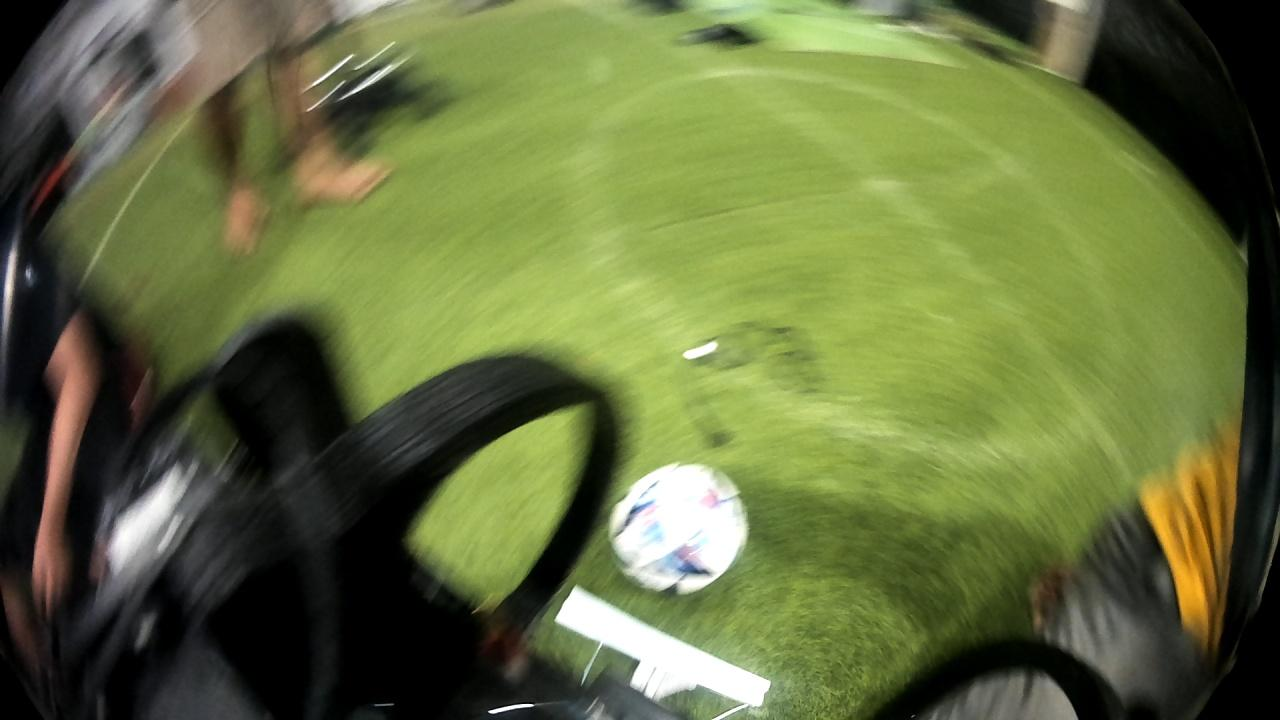ball: (605, 451, 759, 599)
